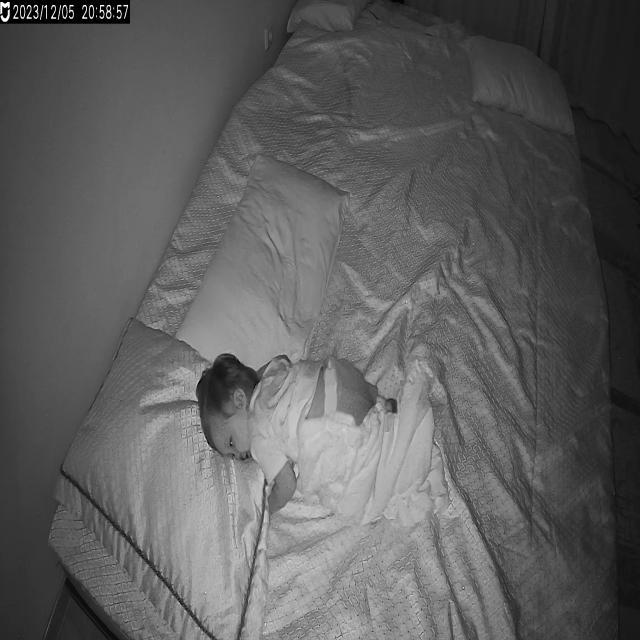baby: (196, 352, 416, 522)
